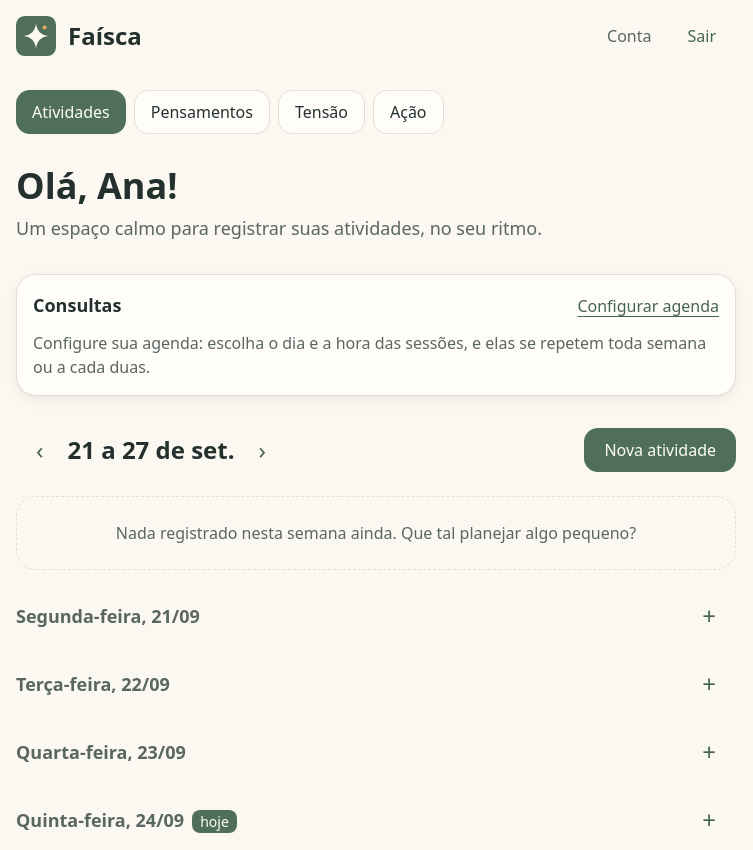
RecordsPage: semana › navega entre semanas pela URL e volta para a semana atual
Step 1. Click the button named "Próxima semana" → coordinates (262, 450), box left=239, top=428, right=286, bottom=472
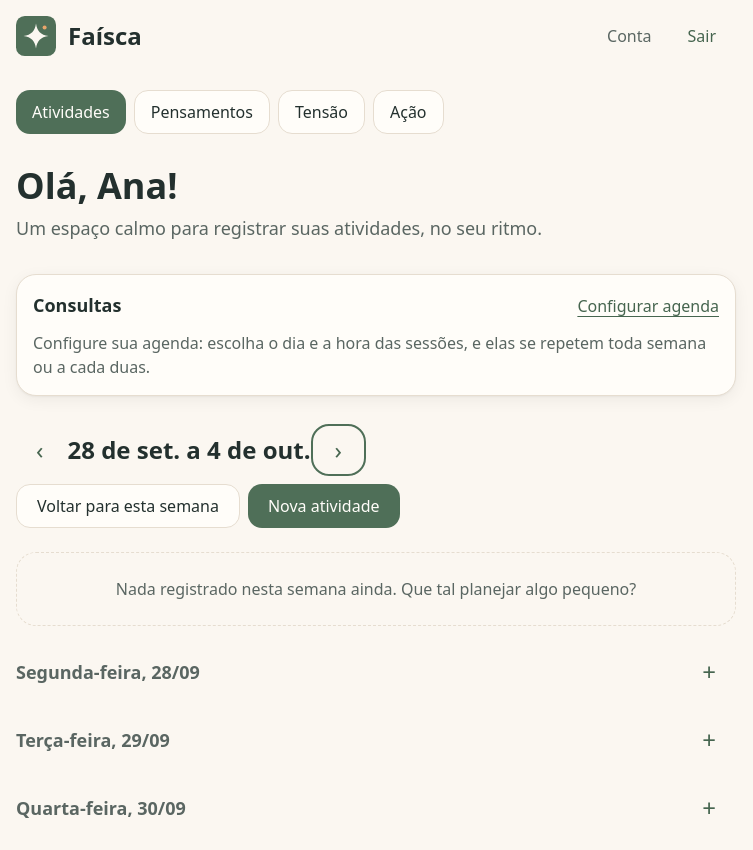
Expected: the heading "28 de set. a 4 de out." is shown, left=68, top=434, right=311, bottom=466
Step 2. Click the button "Voltar para esta semana" → coordinates (128, 506), box left=16, top=484, right=240, bottom=528
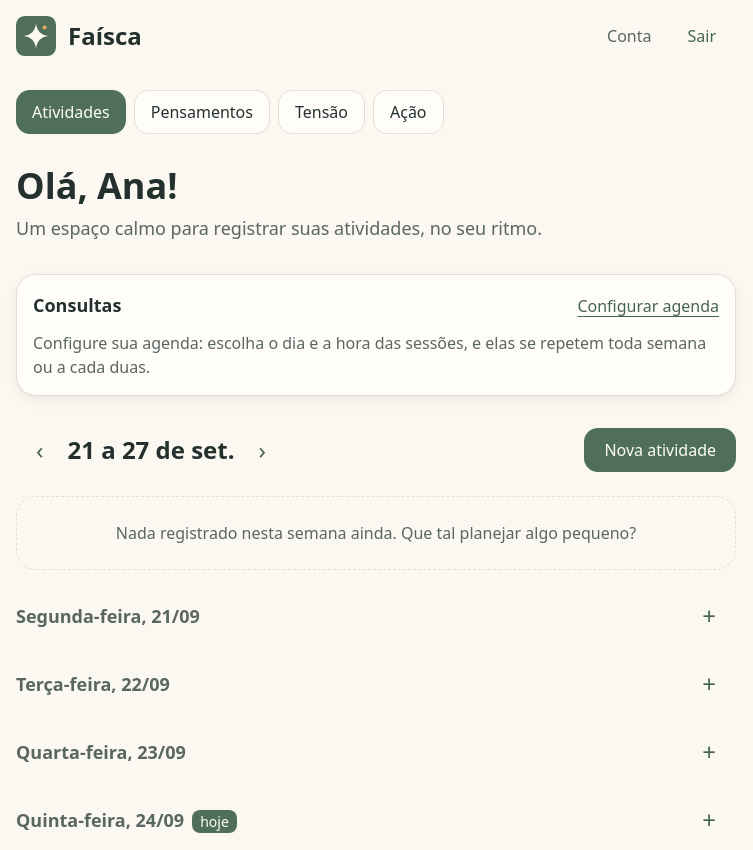
Expected: the heading "21 a 27 de set." is shown, left=68, top=434, right=235, bottom=466
Expected: the button "Voltar para esta semana" is gone
